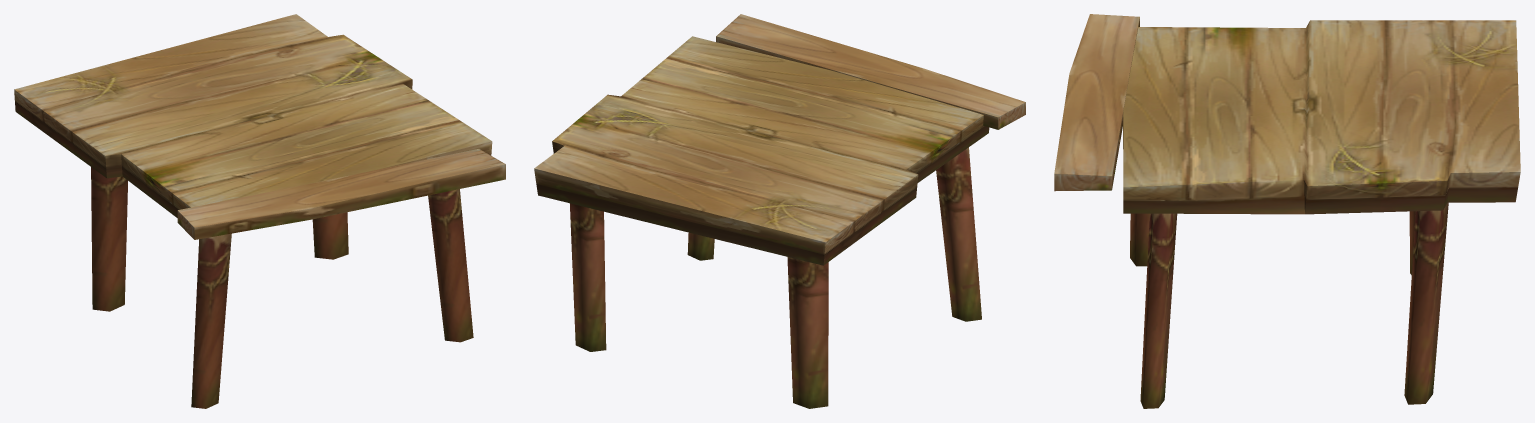
The model's file is h5_matouguodao.FBX.
3 views of the same model, side by side, from view 1: azimuth 30°, elevation 25°; view 2: azimuth 150°, elevation 25°; view 3: azimuth 270°, elevation 25° (orthographic). The views are drawn at different scales.
Parts seen in each view (by area): view 1: h5_matouguodao; view 2: h5_matouguodao; view 3: h5_matouguodao.
Part boxes in pixels (box(x1,y1,x2,y2)): h5_matouguodao: box(14, 14, 505, 408); h5_matouguodao: box(534, 14, 1025, 408); h5_matouguodao: box(1054, 14, 1520, 408).
Bounding box in the file's own units: 4.66 × 2.9 × 5.3.
Materials: 1 (1 with a texture image).
